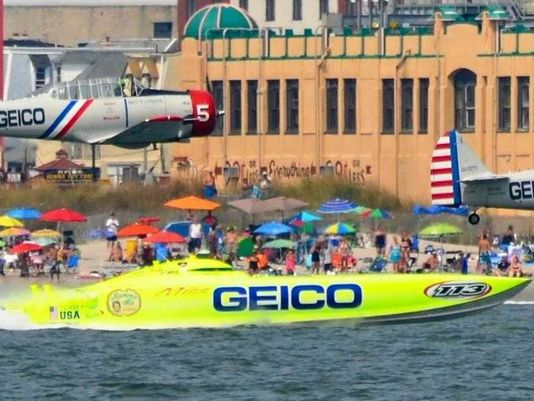Geico: (211, 280, 365, 309), (1, 101, 48, 129), (509, 179, 532, 201)
